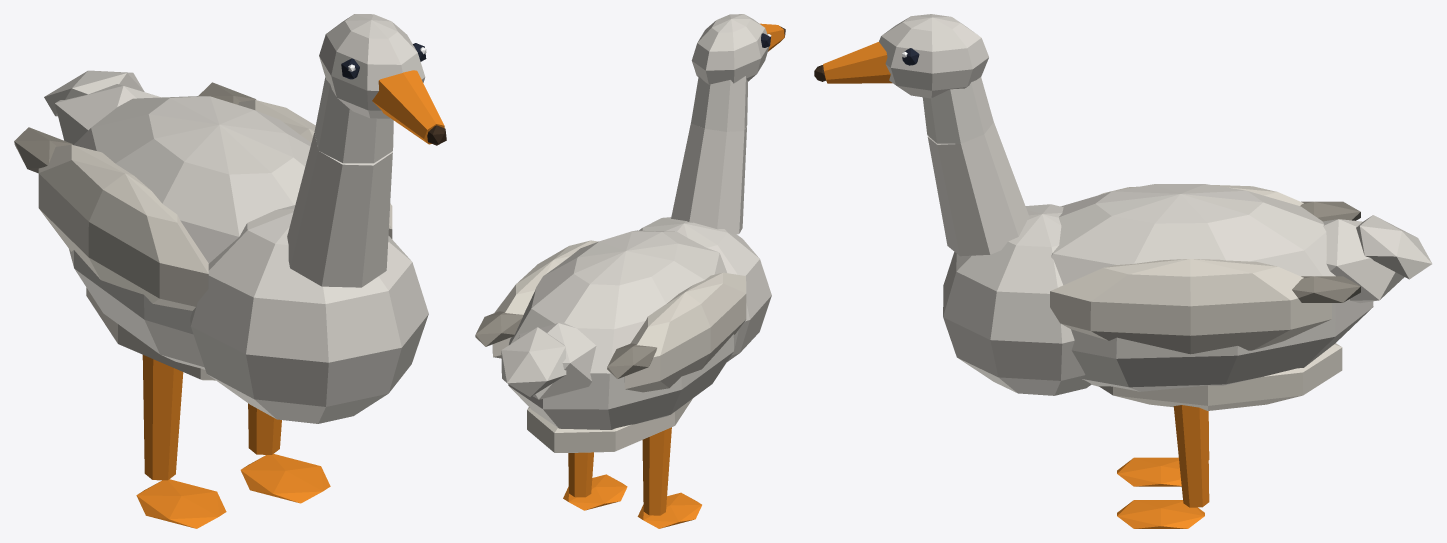
The model's file is goose.glb.
3 views of the same model, side by side, from view 1: azimuth 30°, elevation 25°; view 2: azimuth 150°, elevation 25°; view 3: azimuth 270°, elevation 25° (orthographic). The views are drawn at different scales.
Parts seen in each view (by area): view 1: body, head, wing_r, leg_fr, leg_fl, wing_l, tail; view 2: body, head, wing_r, leg_fr, tail, wing_l, leg_fl; view 3: body, wing_l, head, leg_fl, tail, leg_fr, wing_r.
Part boxes in pixels (<box>): body: <box>55,84,428,423</box>; head: <box>287,14,446,287</box>; wing_r: <box>14,127,208,310</box>; leg_fr: <box>136,355,226,528</box>; leg_fl: <box>240,403,330,503</box>; wing_l: <box>198,82,392,238</box>; tail: <box>44,70,144,116</box>; body: <box>508,217,771,452</box>; head: <box>671,14,785,234</box>; wing_r: <box>607,272,746,392</box>; leg_fr: <box>637,427,701,528</box>; tail: <box>501,327,566,397</box>; wing_l: <box>475,240,598,358</box>; leg_fl: <box>563,452,627,510</box>; body: <box>943,184,1404,410</box>; wing_l: <box>1050,259,1360,354</box>; head: <box>814,14,1029,256</box>; leg_fl: <box>1117,405,1209,528</box>; tail: <box>1356,215,1432,279</box>; leg_fr: <box>1117,411,1209,486</box>; wing_r: <box>1099,185,1360,221</box>.
Size of the model in its own units: 0.4157 by 0.9037 by 1.05.
